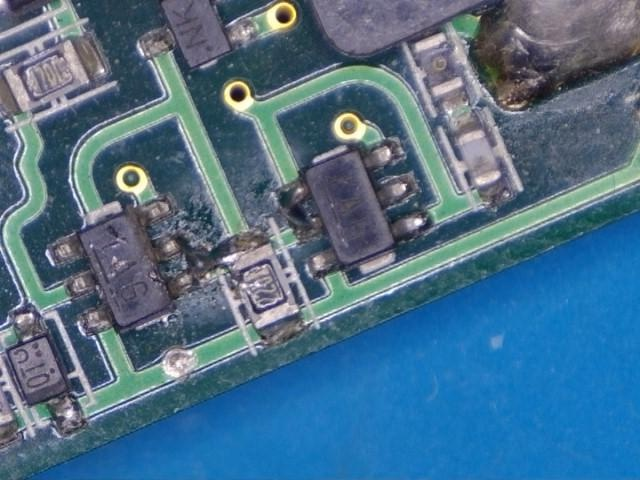pcb_defect: (151, 232, 274, 300), (275, 179, 327, 246)
